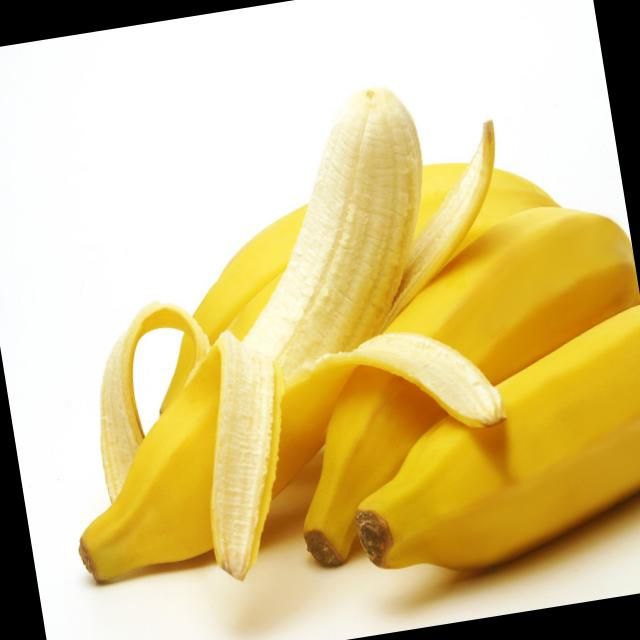banana: (8, 63, 546, 595), (246, 192, 640, 586), (332, 299, 640, 615)
